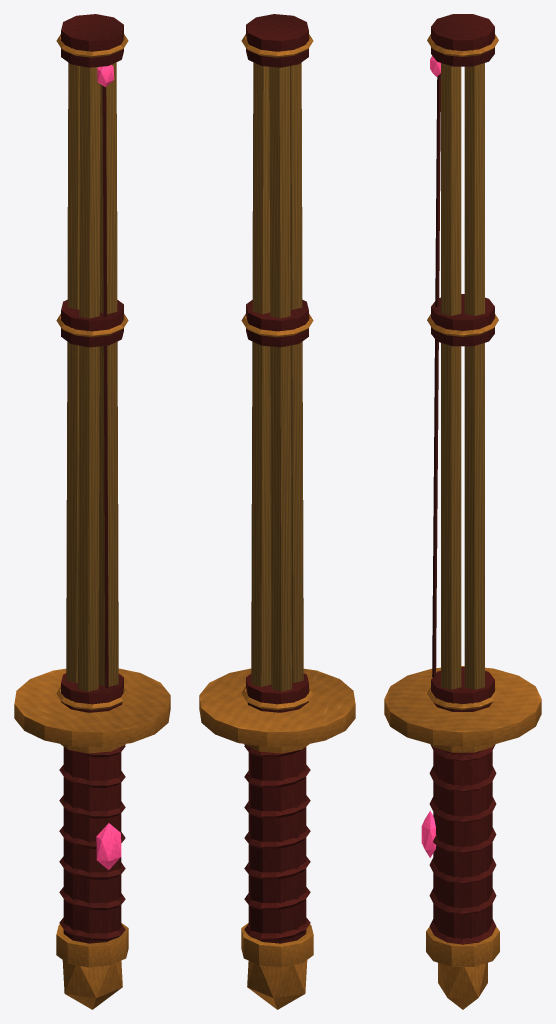
Rendered from shinai-t4.glb.
The picture shows the model from 3 angles, left to right: view 1: azimuth 30°, elevation 25°; view 2: azimuth 150°, elevation 25°; view 3: azimuth 270°, elevation 25°; orthographic projection.
Visible parts, largest first — view 1: Bamboo stave, Bamboo stave.002, Leather grip, Shinai tsuba, Bamboo stave.001, Shinai binding.002, Shinai tension cord, Faceted pommel, Grip ferrule, Shinai binding.001, Shinai binding, Grip seal (+8 smaller); view 2: Bamboo stave.001, Bamboo stave.003, Leather grip, Shinai tsuba, Bamboo stave, Shinai binding.002, Faceted pommel, Grip ferrule, Shinai binding.001, Shinai binding, Raised grip wrap.002, Raised grip wrap.004 (+7 smaller); view 3: Bamboo stave.002, Bamboo stave.003, Leather grip, Shinai tsuba, Shinai binding.002, Shinai tension cord, Shinai binding.001, Grip ferrule, Faceted pommel, Shinai binding, Raised grip wrap.004, Raised grip wrap.002 (+9 smaller).
Boxes of the visible parts, x1,y1,x2,y2 form: Bamboo stave: (78,66,100,691); Bamboo stave.002: (98,62,118,686); Leather grip: (63,747,121,943); Shinai tsuba: (14,668,170,747); Bamboo stave.001: (66,62,79,682); Shinai binding.002: (61,14,123,67); Shinai tension cord: (102,86,108,688); Faceted pommel: (62,960,122,1009); Grip ferrule: (56,923,128,967); Shinai binding.001: (61,299,123,347); Shinai binding: (61,673,123,712); Grip seal: (96,823,121,869); Bamboo stave.001: (269,66,291,691); Bamboo stave.003: (251,62,271,686); Leather grip: (248,747,306,943); Shinai tsuba: (199,668,355,747); Bamboo stave: (290,62,303,682); Shinai binding.002: (246,14,308,67); Faceted pommel: (247,960,307,1009); Grip ferrule: (241,923,313,967); Shinai binding.001: (246,299,308,347); Shinai binding: (246,673,308,712); Raised grip wrap.002: (244,856,310,879); Raised grip wrap.004: (244,795,310,818); Bamboo stave.002: (441,63,461,689); Bamboo stave.003: (464,63,484,689); Leather grip: (433,750,492,938); Shinai tsuba: (384,666,541,747); Shinai binding.002: (431,14,494,66); Shinai tension cord: (432,73,440,677); Shinai binding.001: (431,294,494,346); Grip ferrule: (426,927,499,966); Faceted pommel: (438,962,487,1009); Shinai binding: (431,667,494,711); Raised grip wrap.004: (429,797,496,822); Raised grip wrap.002: (429,858,496,884).
Size of the model in its own units: 0.167 by 1.15 by 0.167.
Materials: 1 (1 with a texture image).
